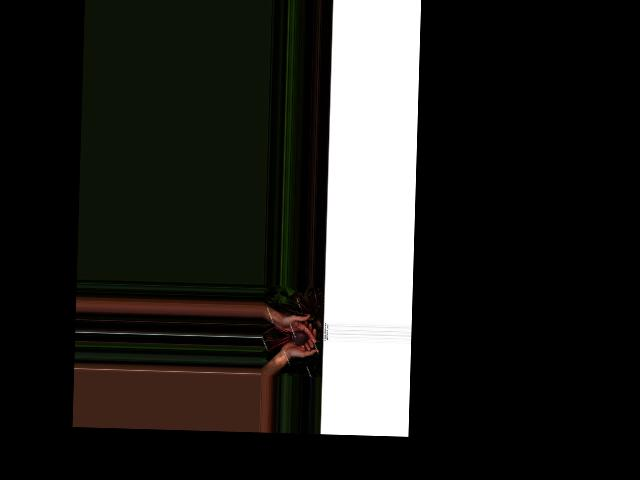beet: (263, 325, 309, 354)
